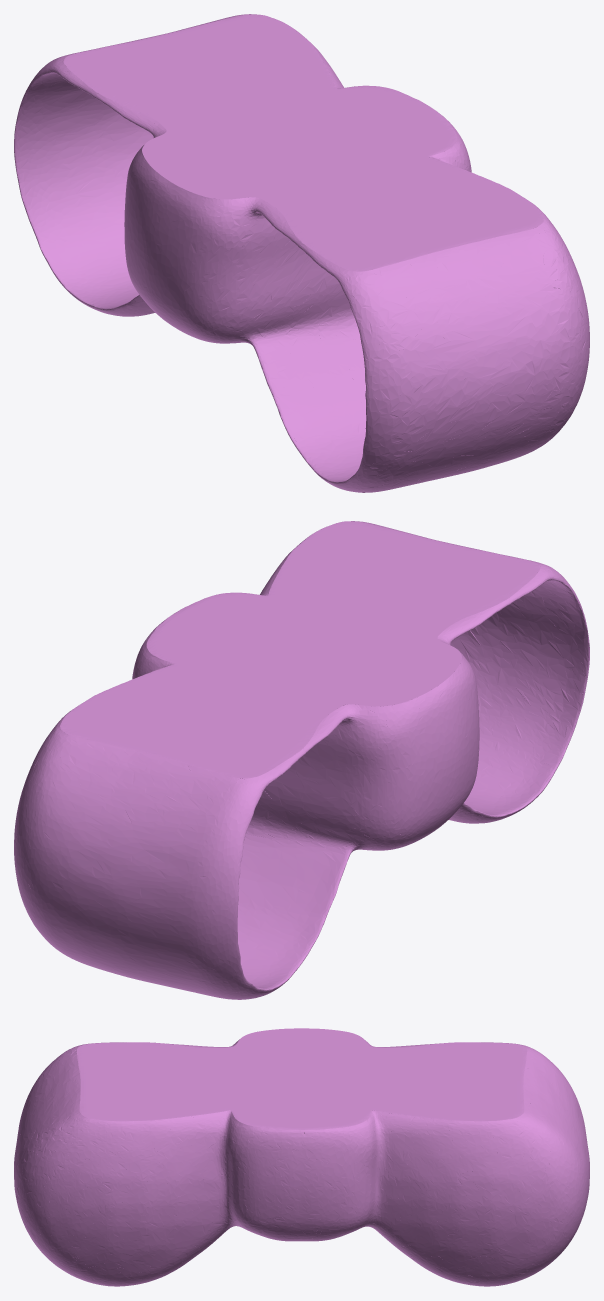
File: Cute Wob Fatima Nevarez.glb
3 views of the same model, one above another, from view 1: azimuth 30°, elevation 25°; view 2: azimuth 150°, elevation 25°; view 3: azimuth 270°, elevation 25° (orthographic). The views are drawn at different scales.
Parts seen in each view (by area): view 1: MOÑO_BAN_FIN; view 2: MOÑO_BAN_FIN; view 3: MOÑO_BAN_FIN.
Boxes of the visible parts, bbox=[...] form: MOÑO_BAN_FIN: bbox=[14, 14, 589, 492]; MOÑO_BAN_FIN: bbox=[14, 521, 589, 999]; MOÑO_BAN_FIN: bbox=[14, 1028, 589, 1286].
Bounding box in the file's own units: 0.2083 × 0.1543 × 0.45.
